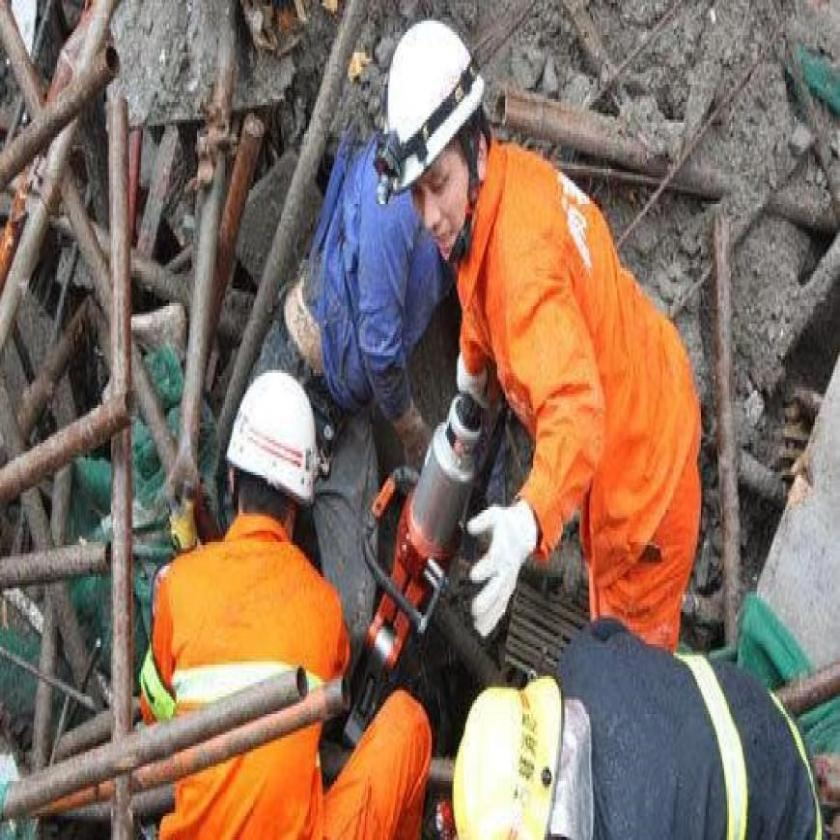Con_casco: (380, 12, 498, 280), (216, 368, 328, 552)
